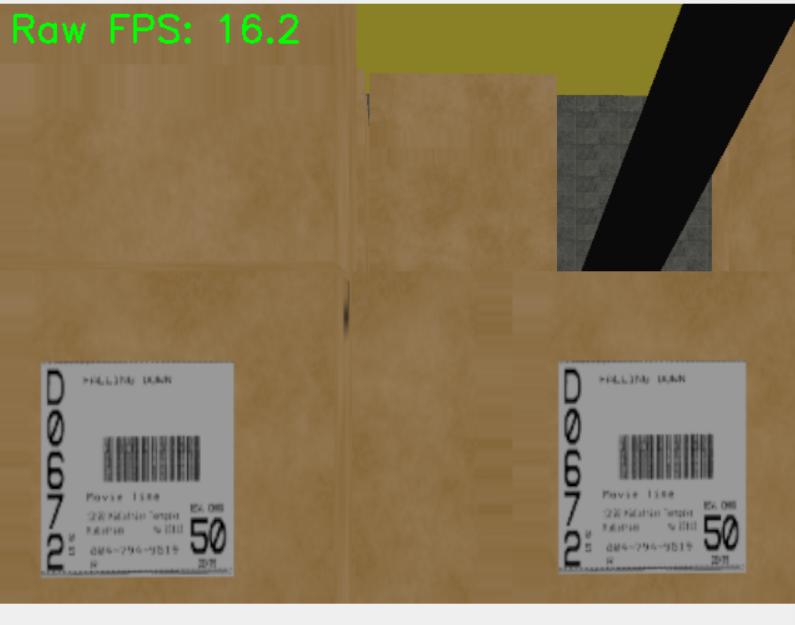barcode: (38, 358, 237, 578), (557, 359, 748, 575)
